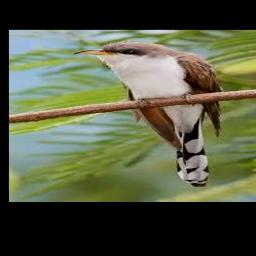Cuckoo: (74, 41, 222, 187)
